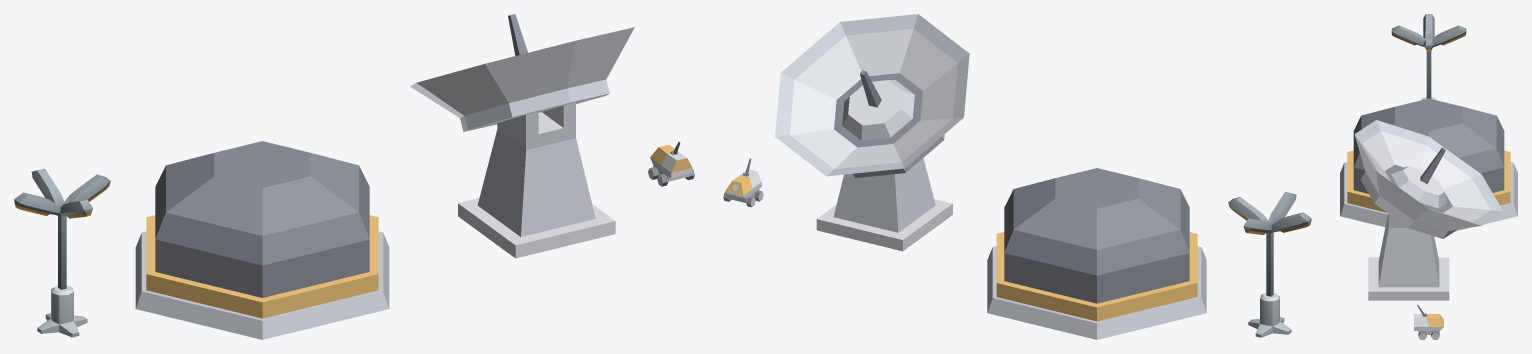
The model's file is Space.fbx.
3 renders of one model, left to right at view 1: azimuth 30°, elevation 25°; view 2: azimuth 150°, elevation 25°; view 3: azimuth 270°, elevation 25°, orthographic. The views are drawn at different scales.
Visible parts, largest first — view 1: Space_Dome, Space_Dish, Space_Pylon, Space_Rover; view 2: Space_Dish, Space_Dome, Space_Pylon, Space_Rover; view 3: Space_Dish, Space_Dome, Space_Pylon, Space_Rover.
Boxes of the visible parts, bbox=[...] form: Space_Dome: bbox=[135, 141, 389, 339]; Space_Dish: bbox=[410, 14, 634, 258]; Space_Pylon: bbox=[14, 168, 110, 337]; Space_Rover: bbox=[648, 141, 694, 186]; Space_Dish: bbox=[775, 14, 969, 251]; Space_Dome: bbox=[987, 168, 1206, 339]; Space_Pylon: bbox=[1228, 192, 1311, 337]; Space_Rover: bbox=[723, 158, 763, 207]; Space_Dish: bbox=[1354, 120, 1503, 300]; Space_Dome: bbox=[1340, 98, 1517, 231]; Space_Pylon: bbox=[1391, 14, 1466, 100]; Space_Rover: bbox=[1414, 304, 1443, 339].
Size of the model in its own units: 98.95 by 30 by 32.38.
Materials: 4 (4 with a texture image).
